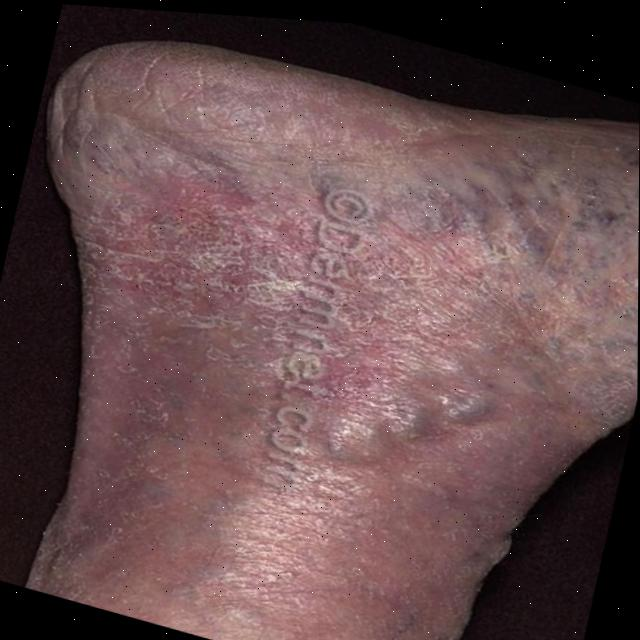Eczema: (73, 61, 640, 640)
